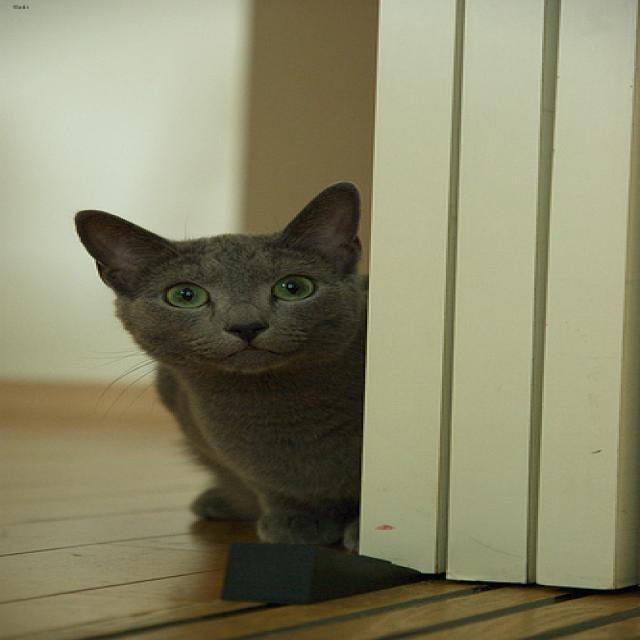Russian_Blue: (72, 178, 378, 373)
